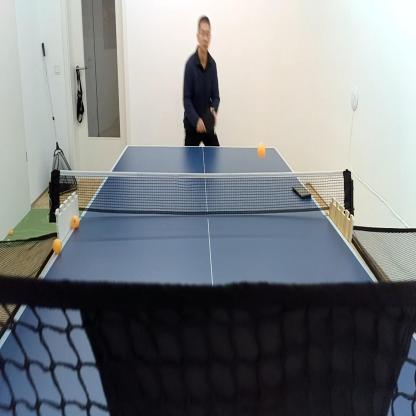Ball: (51, 236, 63, 256), (256, 140, 267, 160), (70, 213, 80, 231), (6, 237, 12, 249), (8, 227, 14, 237)
